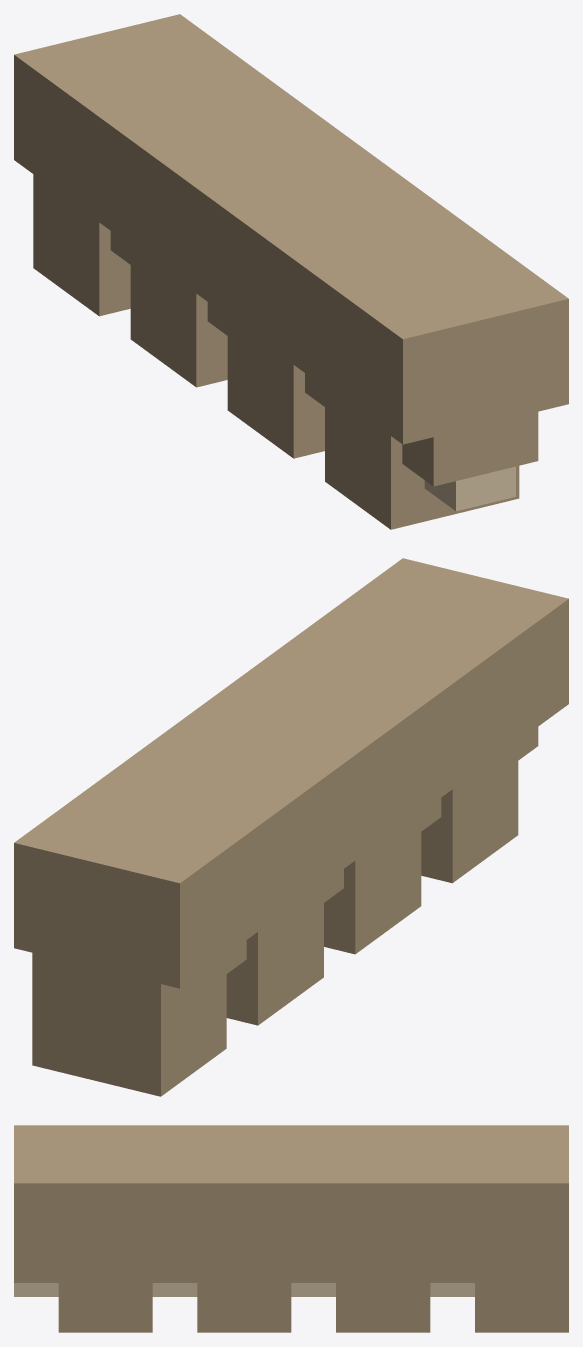
The model's file is DarkSandStoneWallLargeTopper1.fbx.
3 views of the same model, one above another, from view 1: azimuth 30°, elevation 25°; view 2: azimuth 150°, elevation 25°; view 3: azimuth 270°, elevation 25° (orthographic). The views are drawn at different scales.
Visible parts, largest first — view 1: DarkSandStoneWallLargeTopper1; view 2: DarkSandStoneWallLargeTopper1; view 3: DarkSandStoneWallLargeTopper1.
Part boxes in pixels (x1=…): DarkSandStoneWallLargeTopper1: x1=14, y1=14, x2=568, y2=529; DarkSandStoneWallLargeTopper1: x1=14, y1=558, x2=568, y2=1096; DarkSandStoneWallLargeTopper1: x1=14, y1=1125, x2=568, y2=1332.
Size of the model in its own units: 197 by 248 by 800.
Materials: 2 (2 with a texture image).
